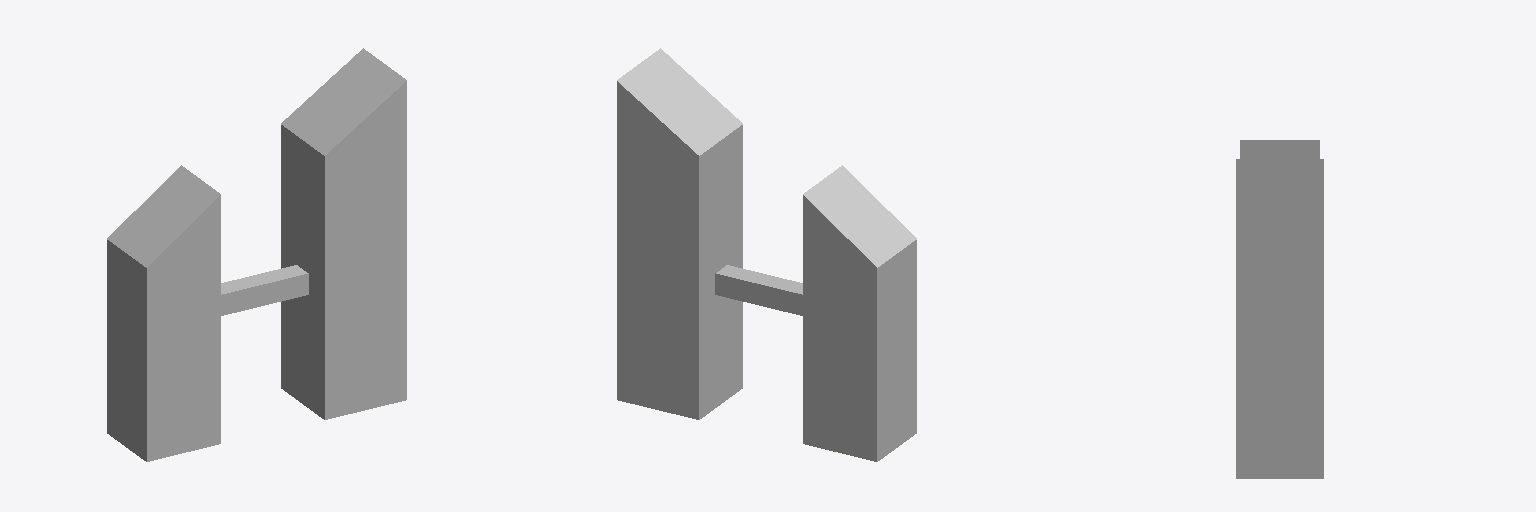
Rendered from KBuilding3.obj.
3 renders of one model, left to right at view 1: azimuth 30°, elevation 25°; view 2: azimuth 150°, elevation 25°; view 3: azimuth 270°, elevation 25°, orthographic.
Visible parts, largest first — view 1: Cube.002_Cube.005; view 2: Cube.002_Cube.005; view 3: Cube.002_Cube.005.
Part boxes in pixels (x1,y1,x2,y2): Cube.002_Cube.005: (107, 48, 406, 461); Cube.002_Cube.005: (617, 48, 916, 461); Cube.002_Cube.005: (1236, 140, 1323, 478).
Size of the model in its own units: 29.01 by 34.3 by 8.57.